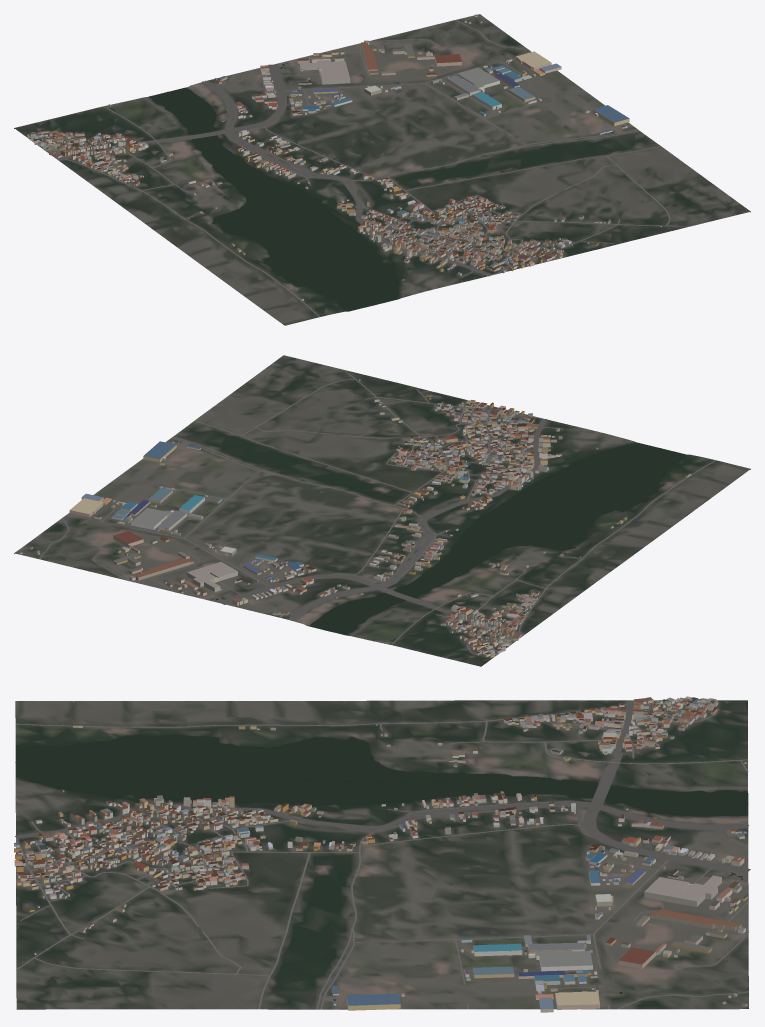
3 views of the same model, one above another, from view 1: azimuth 30°, elevation 25°; view 2: azimuth 150°, elevation 25°; view 3: azimuth 270°, elevation 25° (orthographic). The views are drawn at different scales.
Visible parts, largest first — view 1: ground, buildings, water, roads; view 2: ground, buildings, water, roads; view 3: ground, buildings, water, roads.
Boxes of the visible parts, x1,y1,x2,y2 form: ground: [14, 14, 750, 325]; buildings: [27, 14, 661, 300]; water: [149, 53, 504, 310]; roads: [37, 20, 691, 316]; ground: [14, 355, 750, 666]; buildings: [18, 379, 690, 657]; water: [83, 442, 686, 634]; roads: [39, 369, 715, 655]; ground: [15, 700, 748, 1009]; buildings: [14, 696, 747, 1012]; water: [15, 734, 748, 993]; roads: [15, 700, 750, 1009].
Bounding box in the file's own units: 1417 × 27.78 × 1411.
